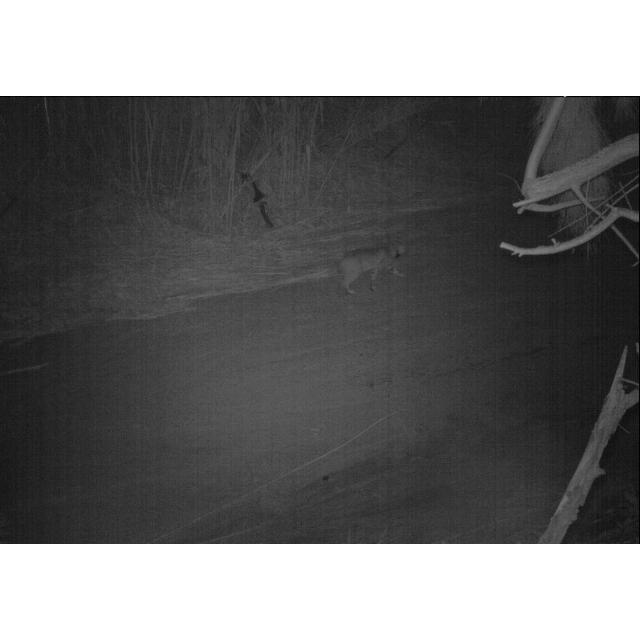animals: (323, 238, 412, 296)
